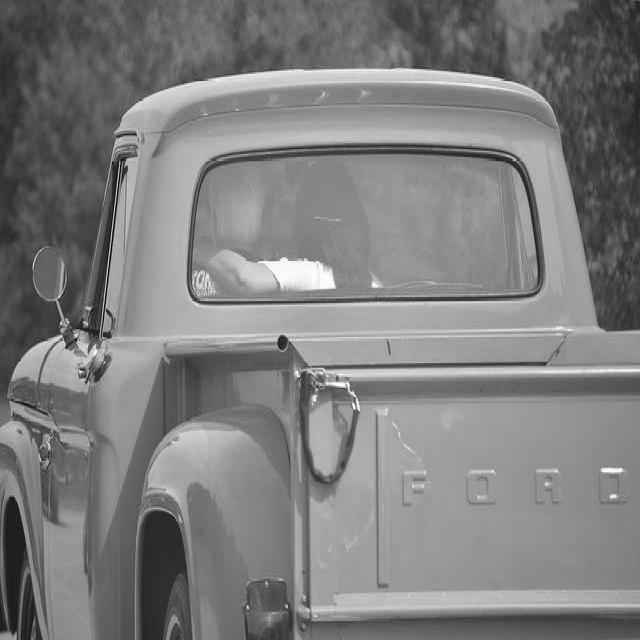vehicle: (0, 67, 640, 632)
